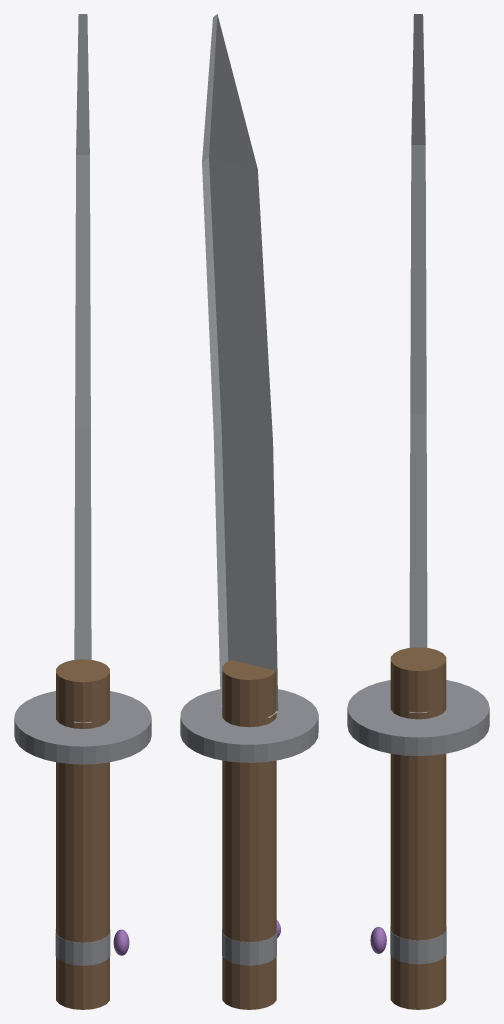
Rendered from katana_with_amethyst_gemstone.glb.
The picture shows the model from 3 angles, left to right: view 1: azimuth 90°, elevation 25°; view 2: azimuth 150°, elevation 25°; view 3: azimuth 270°, elevation 25°; orthographic projection. The views are drawn at different scales.
Visible parts, largest first — view 1: sword_0_2, sword_0_0, sword_0_1, sword_0_3, sword_0_4; view 2: sword_0_0, sword_0_2, sword_0_1, sword_0_3; view 3: sword_0_2, sword_0_0, sword_0_1, sword_0_3, sword_0_4.
Part boxes in pixels (bbox=[...]): sword_0_2: bbox=[56, 659, 109, 1009]; sword_0_0: bbox=[74, 14, 91, 722]; sword_0_1: bbox=[14, 691, 151, 764]; sword_0_3: bbox=[55, 929, 110, 965]; sword_0_4: bbox=[113, 929, 129, 955]; sword_0_0: bbox=[202, 14, 278, 717]; sword_0_2: bbox=[222, 660, 276, 1009]; sword_0_1: bbox=[180, 689, 318, 762]; sword_0_3: bbox=[222, 928, 276, 965]; sword_0_2: bbox=[390, 647, 446, 1009]; sword_0_0: bbox=[409, 14, 427, 712]; sword_0_1: bbox=[347, 680, 489, 755]; sword_0_3: bbox=[390, 926, 446, 964]; sword_0_4: bbox=[370, 926, 386, 953].
Bounding box in the file's own units: 0.5535 × 4.3 × 0.5535.
